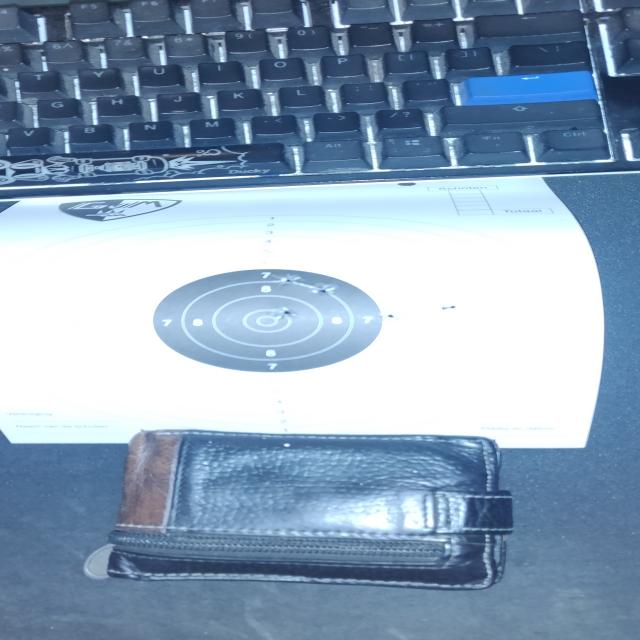10: (270, 305, 298, 320)
3: (434, 299, 465, 313)
6: (378, 308, 408, 321)
8: (273, 273, 305, 287), (310, 282, 339, 296)
Target: (0, 214, 533, 426)
black_contour: (151, 268, 384, 374)
